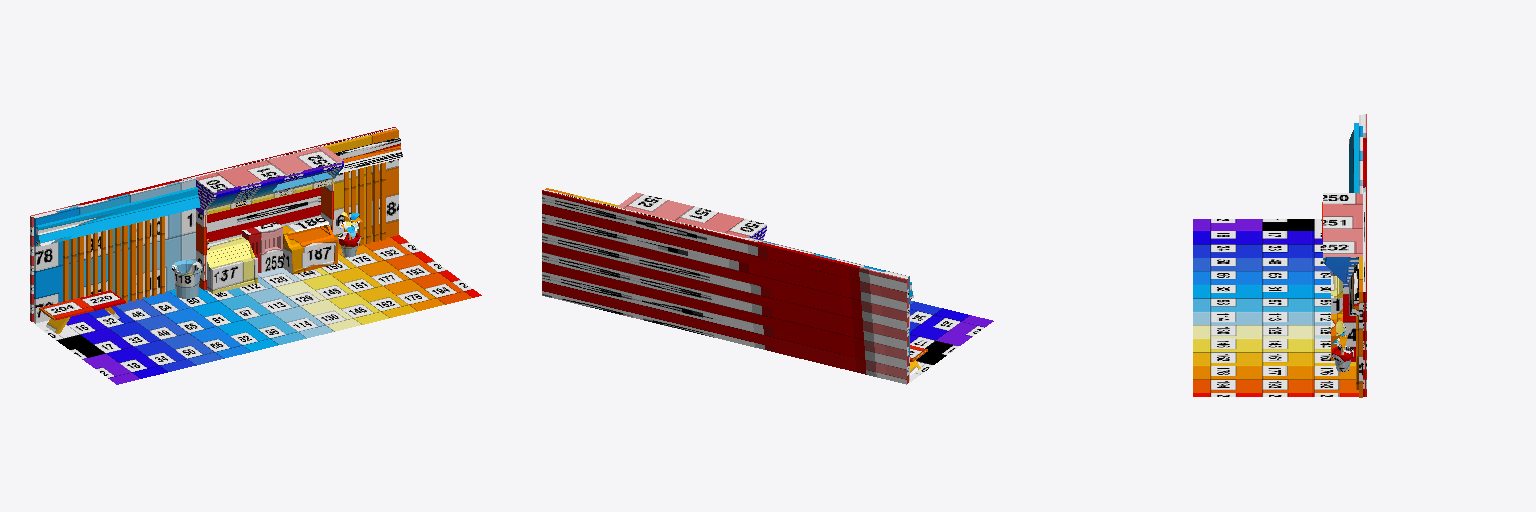
3 renders of one model, left to right at view 1: azimuth 30°, elevation 25°; view 2: azimuth 150°, elevation 25°; view 3: azimuth 270°, elevation 25°, orthographic.
Visible parts, largest first — view 1: pPlane1, pCube12, pCube6, pCube11, pCube46, pCube38, pCube1, pCube3, pCube37, pCylinder3, pCube4; view 2: pCube46, pPlane1, pCube6, pCube12; view 3: pPlane1, pCube6, pCube46, pCube11, pCube12, pCube5.
Part boxes in pixels (bbox=[...]): pPlane1: bbox=[33, 235, 481, 384]; pCube12: bbox=[34, 129, 398, 323]; pCube6: bbox=[196, 146, 343, 215]; pCube11: bbox=[36, 138, 402, 245]; pCube46: bbox=[30, 127, 396, 321]; pCube38: bbox=[283, 217, 337, 274]; pCube1: bbox=[207, 236, 257, 293]; pCube3: bbox=[242, 222, 282, 272]; pCube37: bbox=[39, 290, 125, 320]; pCylinder3: bbox=[172, 260, 202, 298]; pCube4: bbox=[196, 210, 206, 289]; pCube46: bbox=[542, 189, 908, 384]; pPlane1: bbox=[909, 300, 993, 382]; pCube6: bbox=[618, 192, 766, 239]; pCube12: bbox=[546, 188, 909, 380]; pPlane1: bbox=[1193, 219, 1358, 396]; pCube6: bbox=[1323, 193, 1362, 286]; pCube46: bbox=[1363, 114, 1366, 396]; pCube11: bbox=[1349, 123, 1358, 315]; pCube12: bbox=[1359, 115, 1362, 397]; pCube5: bbox=[1343, 287, 1355, 361].
Bounding box in the file's own units: 24.1 × 6.65 × 9.99.
Materials: 1 (1 with a texture image).